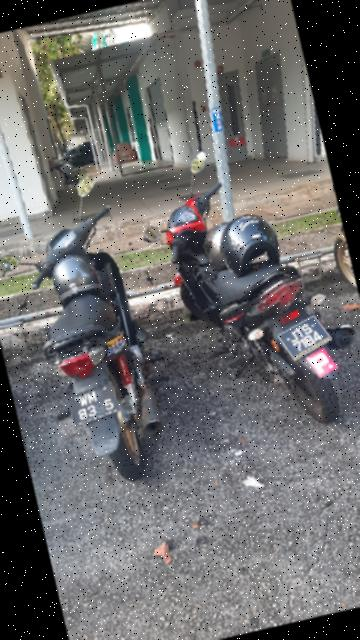License_Plate: (276, 307, 350, 365), (60, 378, 135, 432)
motorcycle: (152, 137, 360, 457), (1, 166, 191, 499)
